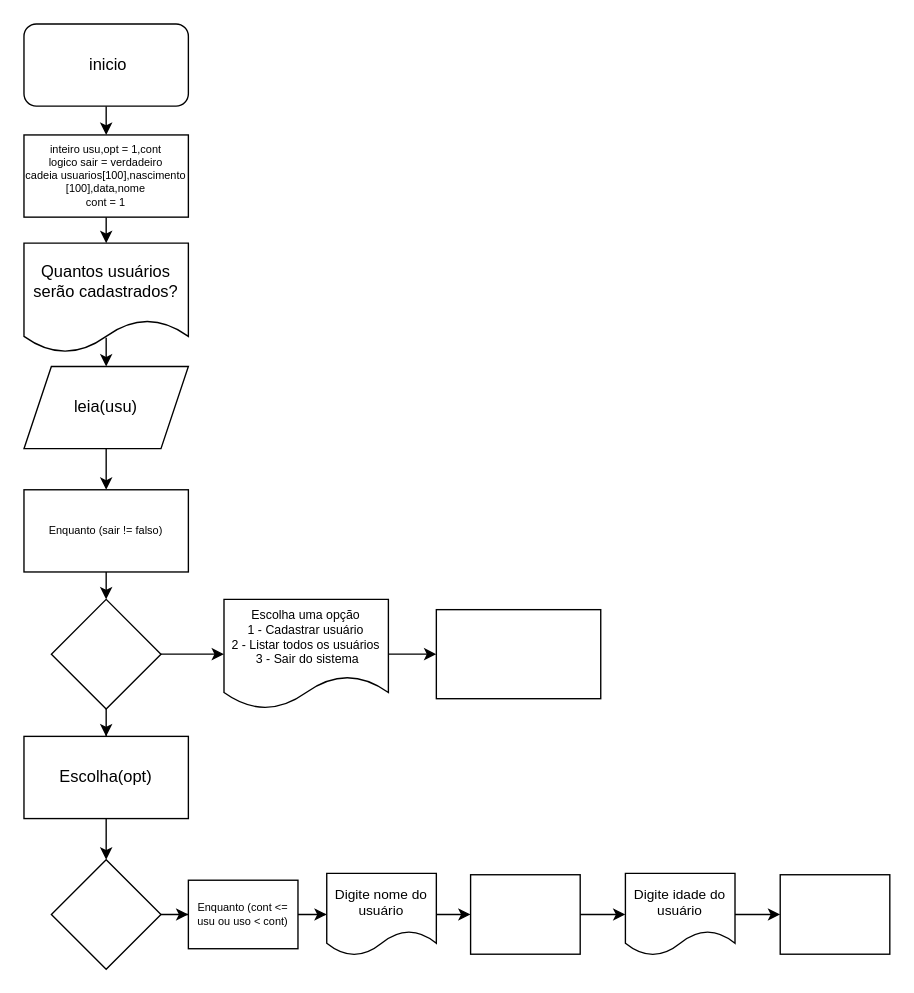
This 914x993 diagram has some shape labels left out. Each missing label, with the box of its shape:
caso 1:: (50, 858, 161, 969)
idade: (779, 873, 890, 954)
nome: (469, 873, 580, 954)
opt: (435, 608, 601, 699)
se(opt < 1): (50, 598, 161, 709)
